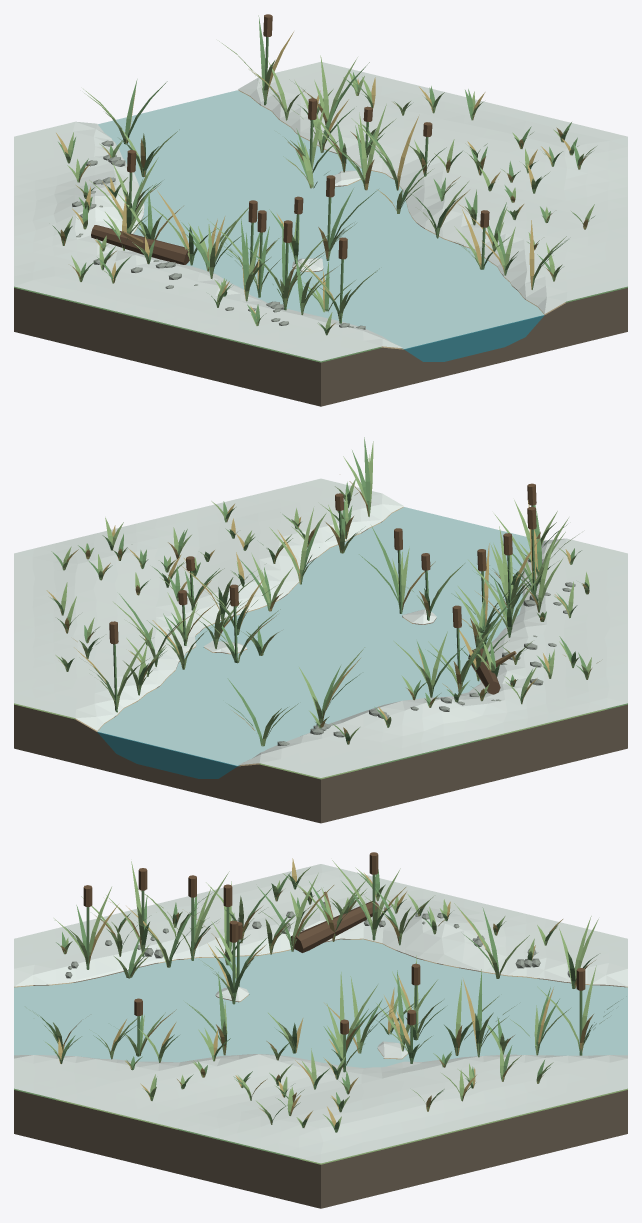
Rendered from wetland.glb.
3 renders of one model, top to bottom at view 1: azimuth 30°, elevation 25°; view 2: azimuth 150°, elevation 25°; view 3: azimuth 270°, elevation 25°, orthographic.
Visible parts, largest first — view 1: RiparianRoot_mesh, BankSnow.003_mesh, BankSnow.004_mesh, BankSnow.002_mesh, BankSnow.001_mesh, RiverIce.001_mesh, RiverIce_mesh, RiverIce.002_mesh, BankSnow_mesh, RiverIce.003_mesh, RiverIce.004_mesh, ChannelTerrain_mesh (+16 smaller); view 2: RiparianRoot_mesh, BankSnow.003_mesh, BankSnow.004_mesh, BankSnow.002_mesh, BankSnow.001_mesh, RiverIce.001_mesh, RiverIce_mesh, RiverIce.002_mesh, RiverIce.003_mesh, BankSnow_mesh, RiverIce.004_mesh, ChannelTerrain_mesh (+18 smaller); view 3: RiparianRoot_mesh, BankSnow.003_mesh, BankSnow.004_mesh, BankSnow.002_mesh, BankSnow.001_mesh, RiverIce.001_mesh, RiverIce.002_mesh, RiverIce_mesh, BankSnow_mesh, RiverIce.004_mesh, RiverIce.003_mesh, ChannelTerrain_mesh (+23 smaller).
Part boxes in pixels (left/top/right/bottom): RiparianRoot_mesh: left=14, top=140, right=627, bottom=406; BankSnow.003_mesh: left=14, top=62, right=627, bottom=361; BankSnow.004_mesh: left=52, top=67, right=588, bottom=356; BankSnow.002_mesh: left=14, top=62, right=627, bottom=361; BankSnow.001_mesh: left=14, top=67, right=627, bottom=356; RiverIce.001_mesh: left=113, top=100, right=484, bottom=339; RiverIce_mesh: left=119, top=105, right=463, bottom=348; RiverIce.002_mesh: left=105, top=95, right=544, bottom=334; BankSnow_mesh: left=14, top=78, right=627, bottom=341; RiverIce.003_mesh: left=98, top=90, right=536, bottom=328; RiverIce.004_mesh: left=133, top=175, right=524, bottom=319; ChannelTerrain_mesh: left=14, top=90, right=627, bottom=362; RiparianRoot_mesh: left=14, top=559, right=627, bottom=823; BankSnow.003_mesh: left=14, top=483, right=627, bottom=772; BankSnow.004_mesh: left=14, top=489, right=627, bottom=767; BankSnow.002_mesh: left=14, top=483, right=627, bottom=772; BankSnow.001_mesh: left=14, top=478, right=627, bottom=772; RiverIce.001_mesh: left=118, top=521, right=526, bottom=755; RiverIce_mesh: left=135, top=531, right=543, bottom=750; RiverIce.002_mesh: left=114, top=507, right=521, bottom=760; RiverIce.003_mesh: left=97, top=511, right=521, bottom=765; BankSnow_mesh: left=14, top=478, right=627, bottom=777; RiverIce.004_mesh: left=200, top=521, right=522, bottom=705; ChannelTerrain_mesh: left=14, top=507, right=627, bottom=779; RiparianRoot_mesh: left=14, top=891, right=627, bottom=1208; BankSnow.003_mesh: left=14, top=864, right=627, bottom=1163; BankSnow.004_mesh: left=14, top=879, right=627, bottom=1148; BankSnow.002_mesh: left=14, top=864, right=627, bottom=1163; BankSnow.001_mesh: left=14, top=869, right=627, bottom=1158; RiverIce.001_mesh: left=14, top=945, right=627, bottom=1062; RiverIce.002_mesh: left=14, top=939, right=627, bottom=1062; RiverIce_mesh: left=14, top=949, right=627, bottom=1059; BankSnow_mesh: left=14, top=869, right=627, bottom=1158; RiverIce.004_mesh: left=32, top=939, right=435, bottom=1067; RiverIce.003_mesh: left=14, top=939, right=627, bottom=1067; ChannelTerrain_mesh: left=14, top=938, right=627, bottom=1164.
Bounding box in the file's own units: 3.5 × 0.7075 × 3.03.
